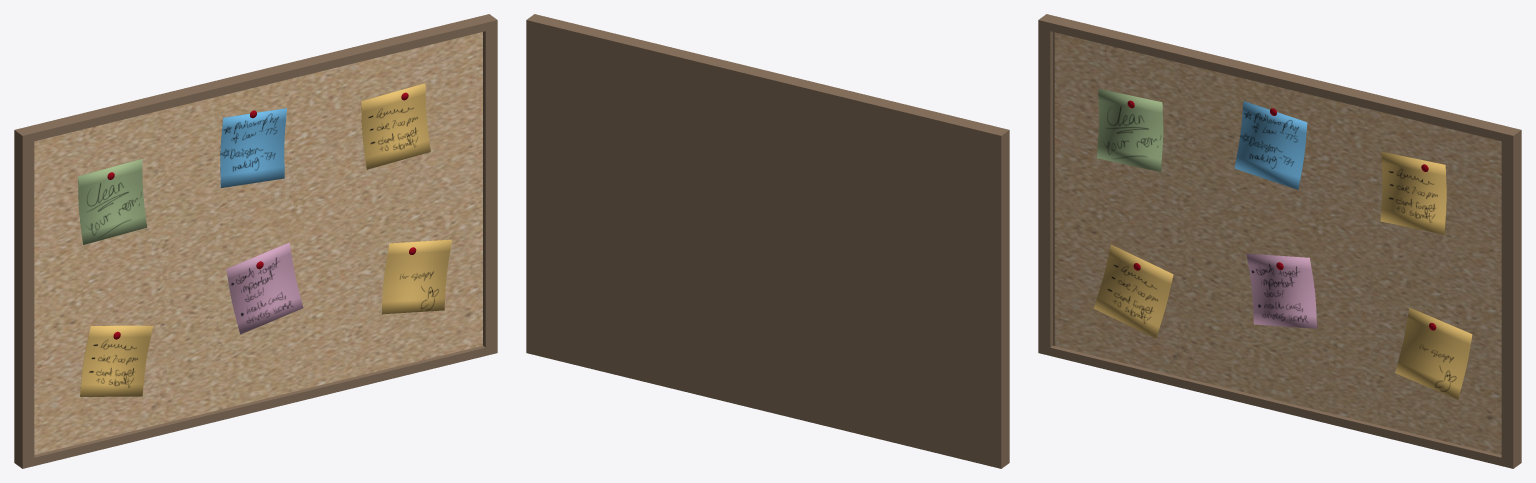
File: Cork Board.fbx
3 views of the same model, side by side, from view 1: azimuth 30°, elevation 25°; view 2: azimuth 150°, elevation 25°; view 3: azimuth 330°, elevation 25° (orthographic).
Parts seen in each view (by area): view 1: Note 5.001; view 2: Note 5.001; view 3: Note 5.001.
Boxes of the visible parts, x1,y1,x2,y2 form: Note 5.001: (14, 14, 497, 468); Note 5.001: (526, 14, 1009, 468); Note 5.001: (1038, 14, 1521, 468).
Size of the model in its own units: 741 by 497 by 25.2.
